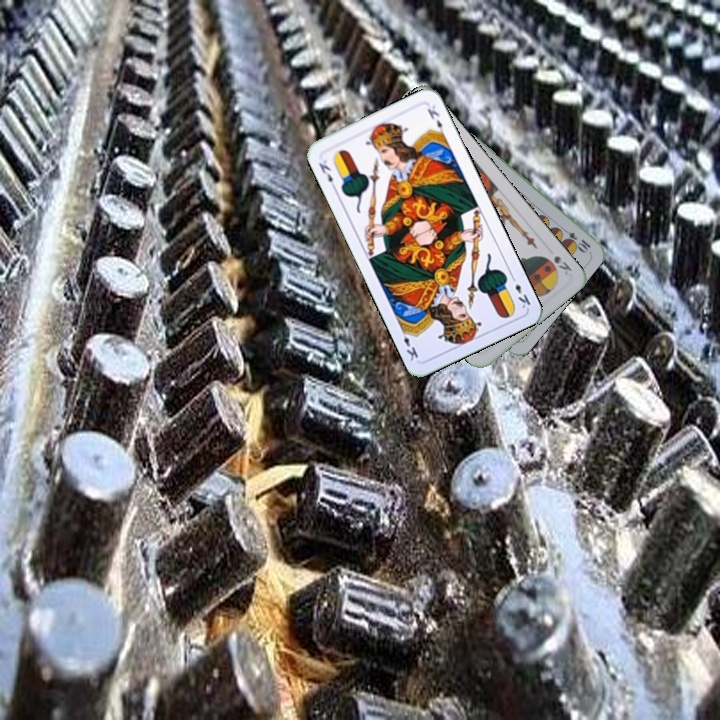E10: (557, 223, 593, 254)
EK: (507, 271, 533, 311), (314, 156, 339, 192)
SK: (550, 252, 574, 278)
